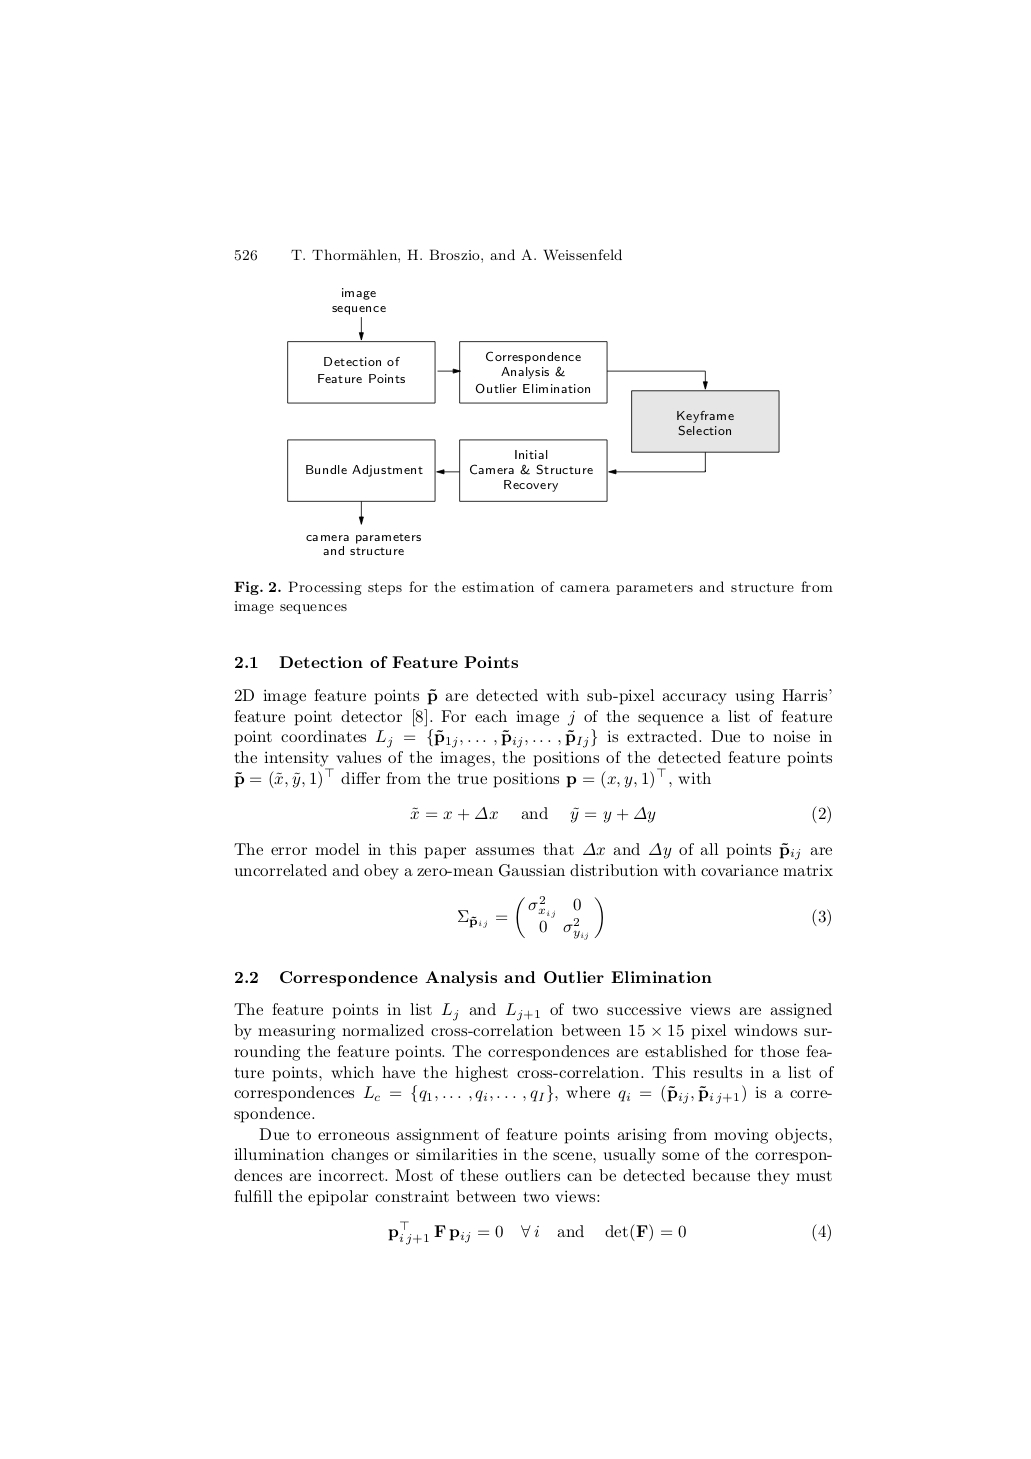figure: (287, 288, 779, 555)
formula: (457, 895, 830, 940), (388, 1220, 830, 1245), (409, 805, 830, 824)
